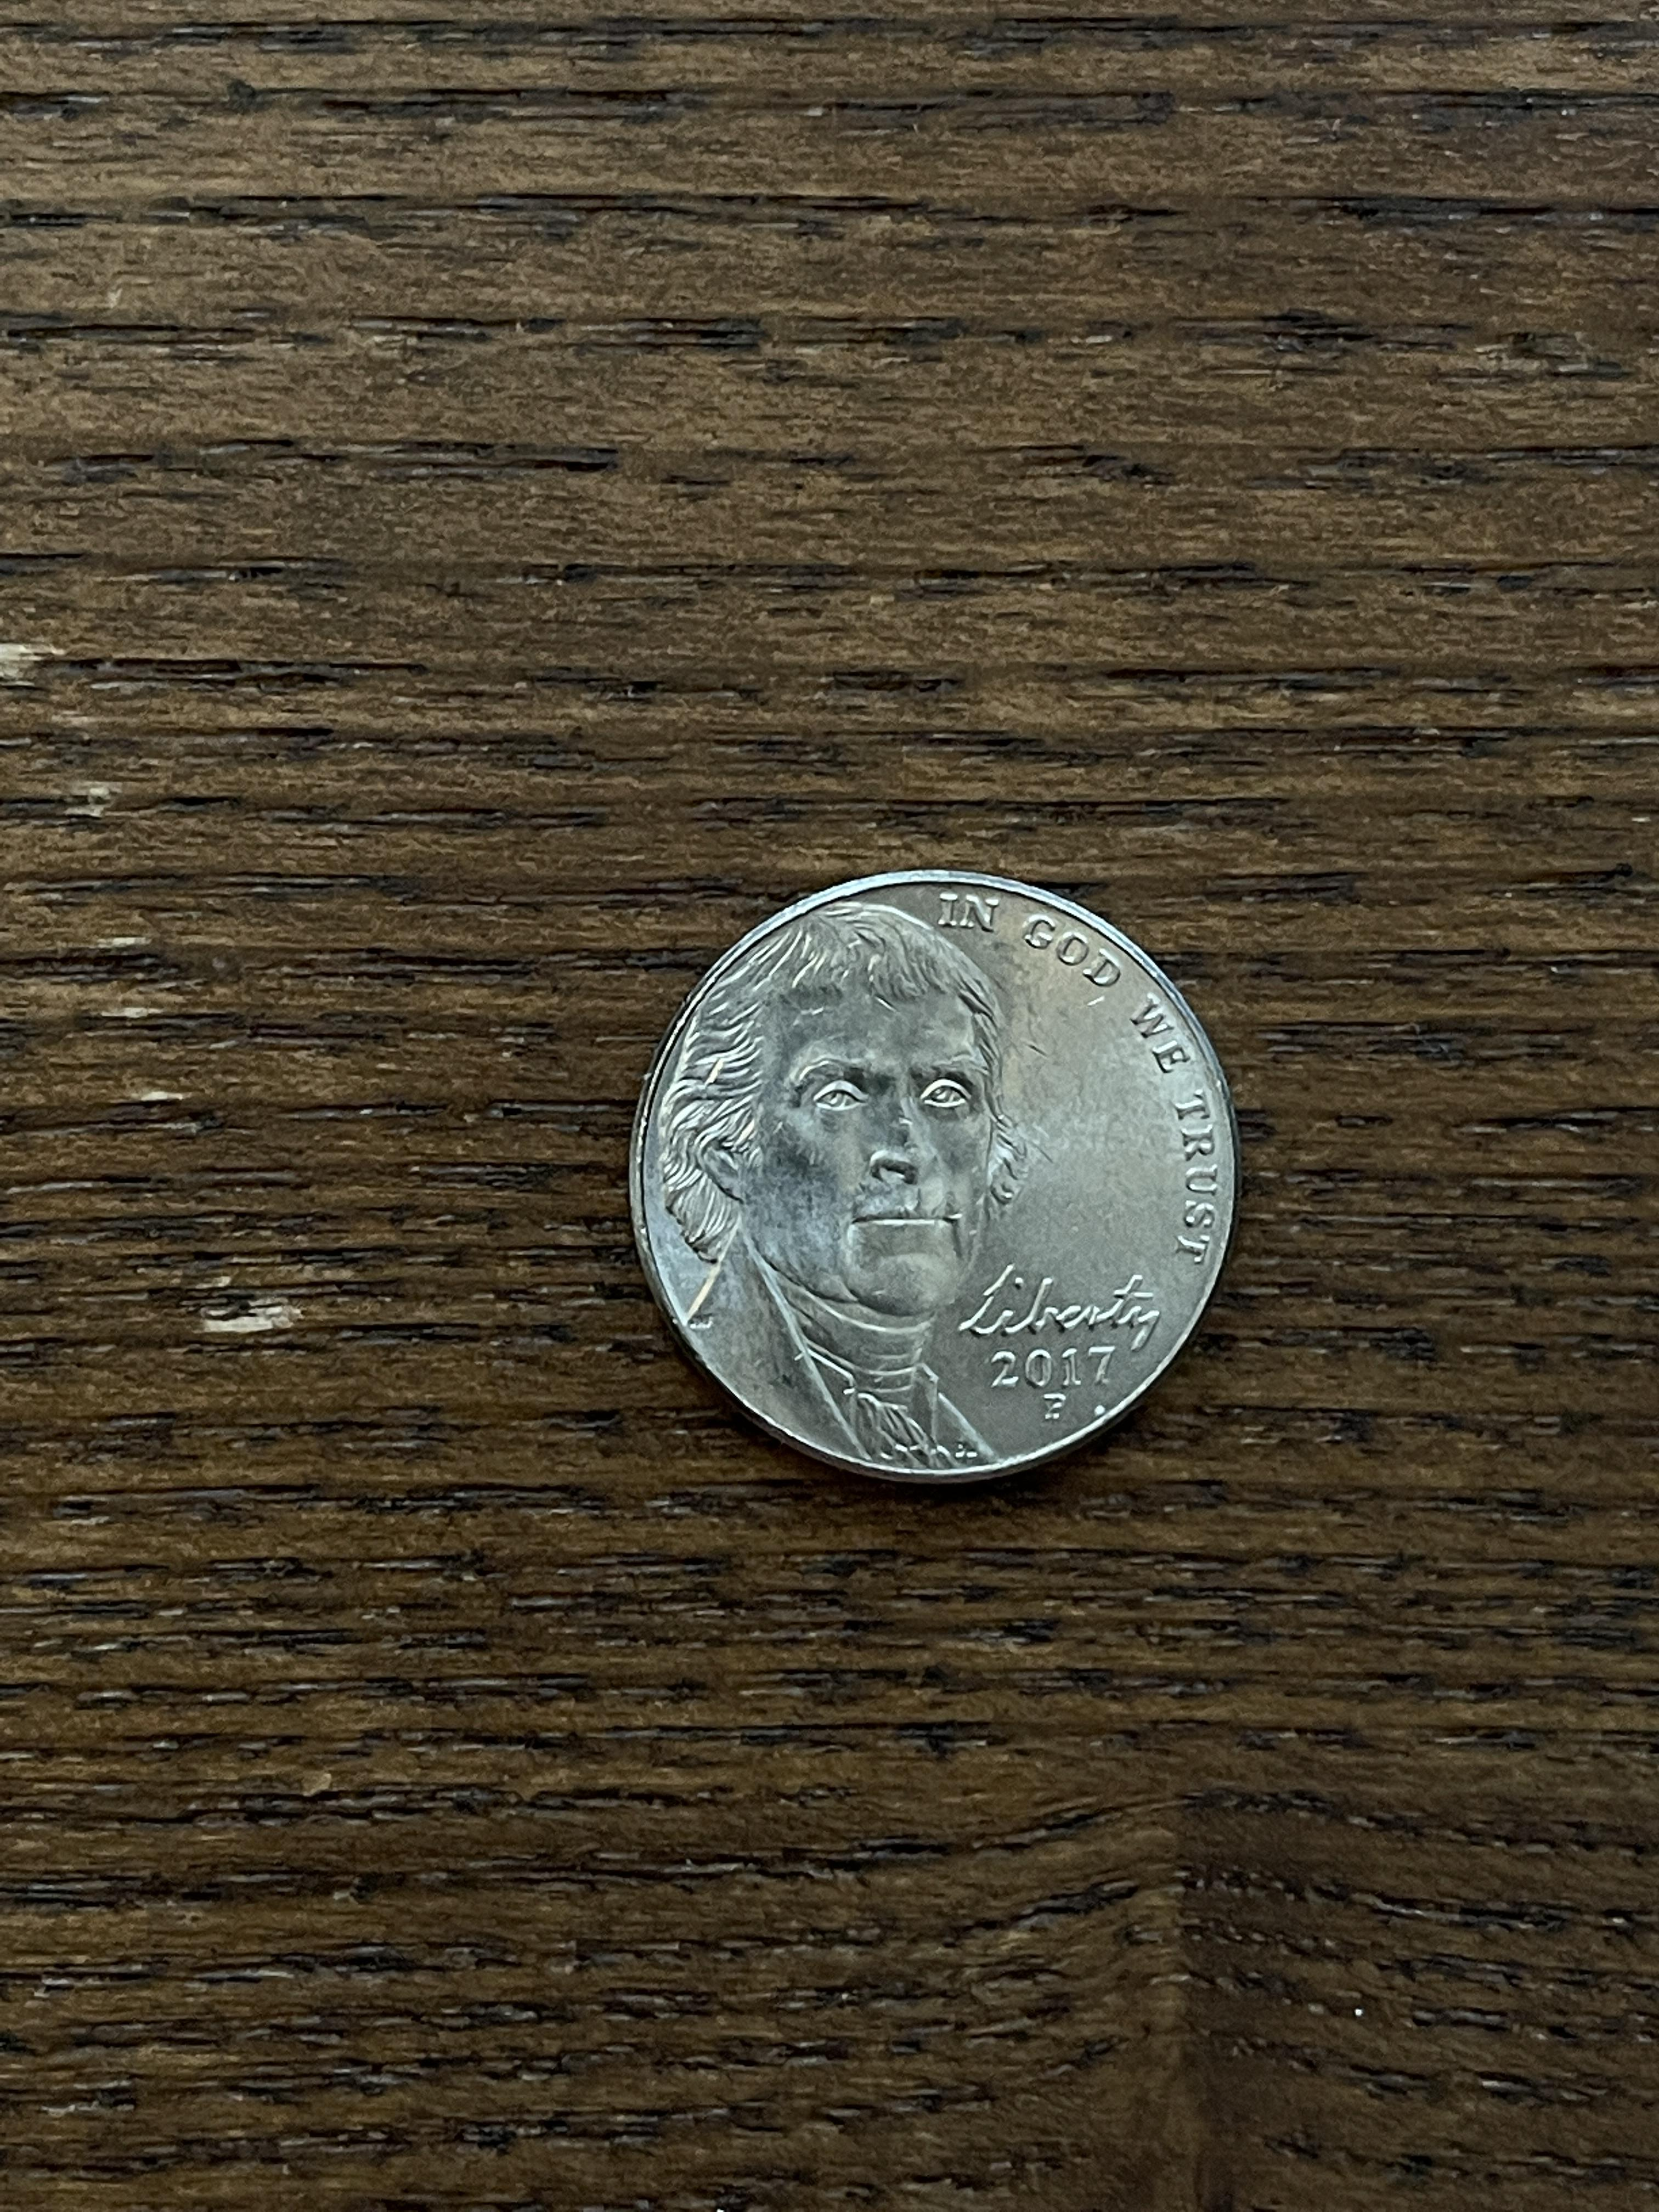Nickel: (620, 862, 1249, 1486)
